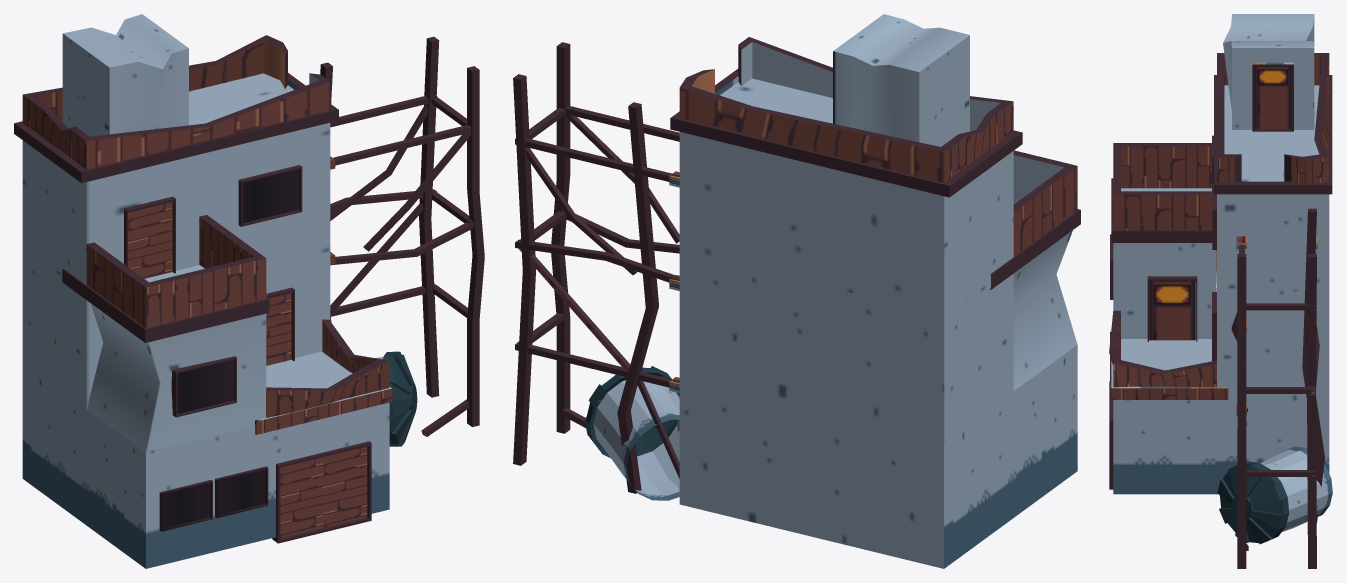
The model's file is PredioQuebrado.fbx.
The picture shows the model from 3 angles, left to right: view 1: azimuth 30°, elevation 25°; view 2: azimuth 150°, elevation 25°; view 3: azimuth 270°, elevation 25°; orthographic projection. The views are drawn at different scales.
Visible parts, largest first — view 1: Predio; view 2: Predio; view 3: Predio.
Part boxes in pixels (<box>): Predio: <box>14,14,484,568</box>; Predio: <box>513,14,1080,568</box>; Predio: <box>1109,14,1332,568</box>.
Bounding box in the file's own units: 1119 × 594 × 1177.
